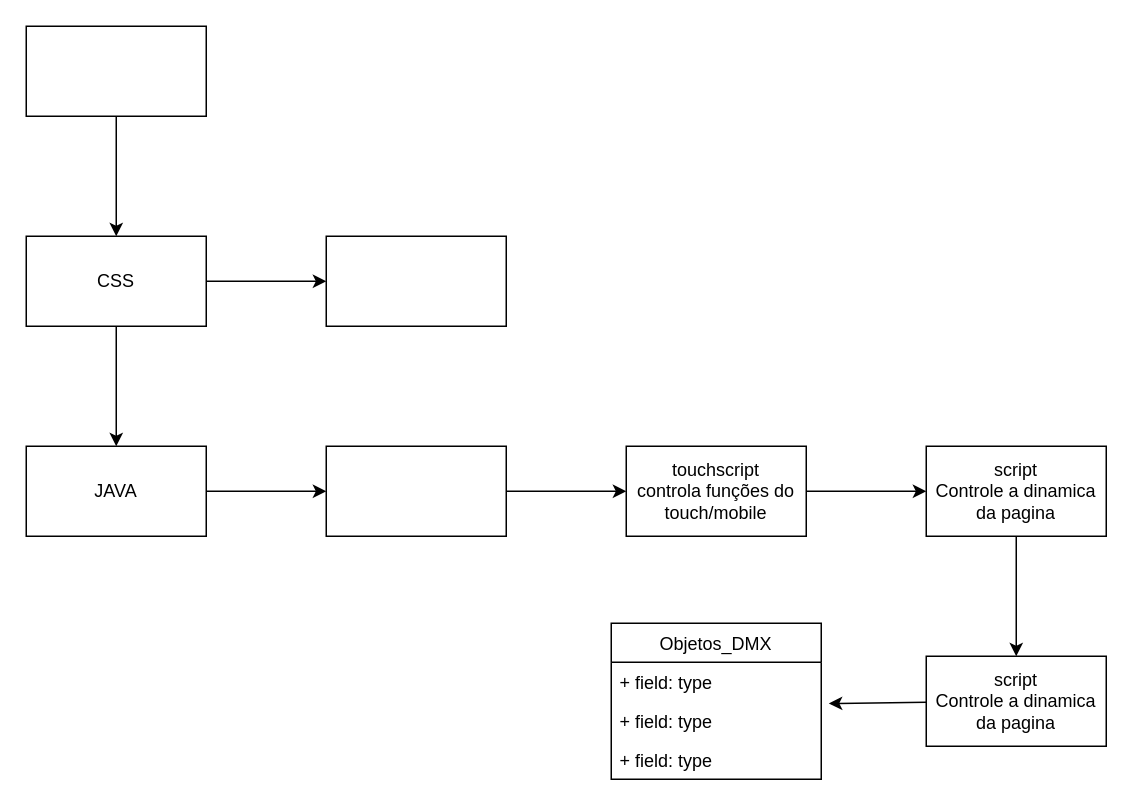
Image size: 1133x810. Some labels were removed from this diagram. The shapes that lost their labels are listed below. From the top down, each one's centre as x and y in pixels, then its label:
At point 115,70: "html".
At point 415,280: "style.css".
At point 415,490: "mousescript controla funções do mouse".
